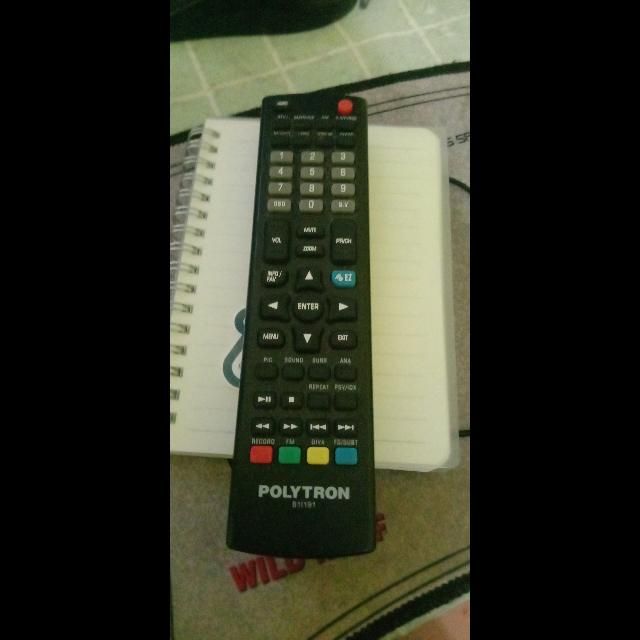TV-Remote-Control: (227, 88, 379, 554)
